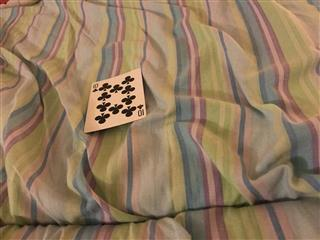TenOfClubs: (83, 67, 146, 133)
